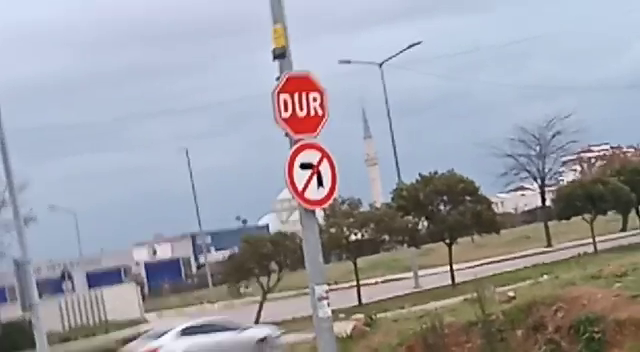no_left: (280, 137, 343, 214)
stop: (268, 67, 331, 143)
